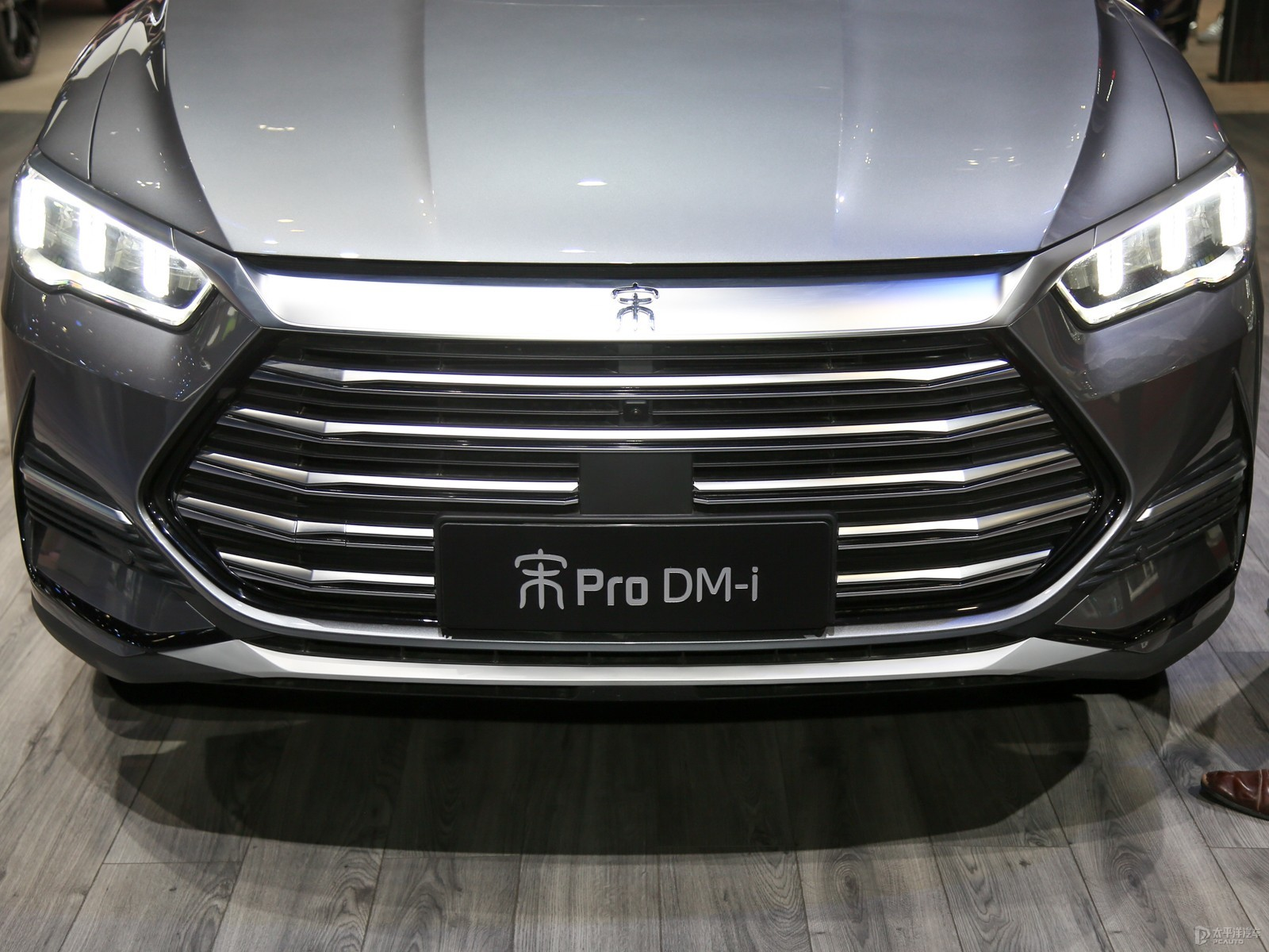BYD Song: (611, 283, 658, 330)
